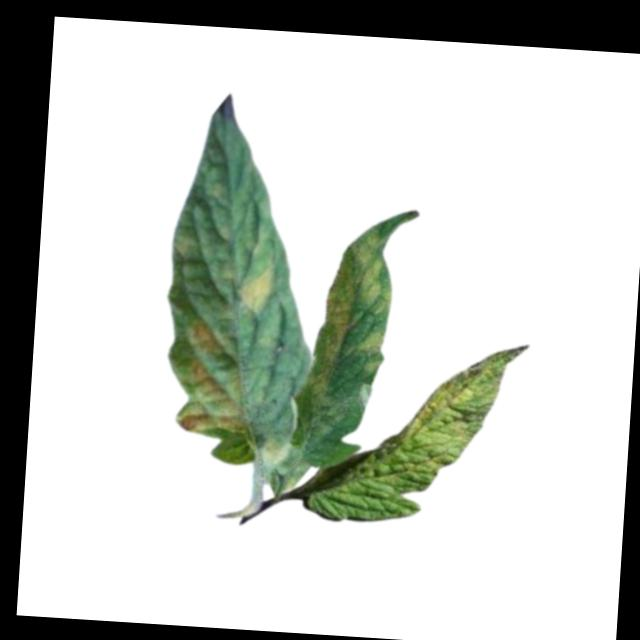Leaf_Mold: (386, 337, 530, 485), (308, 219, 395, 402), (168, 312, 255, 435), (234, 263, 277, 316)
